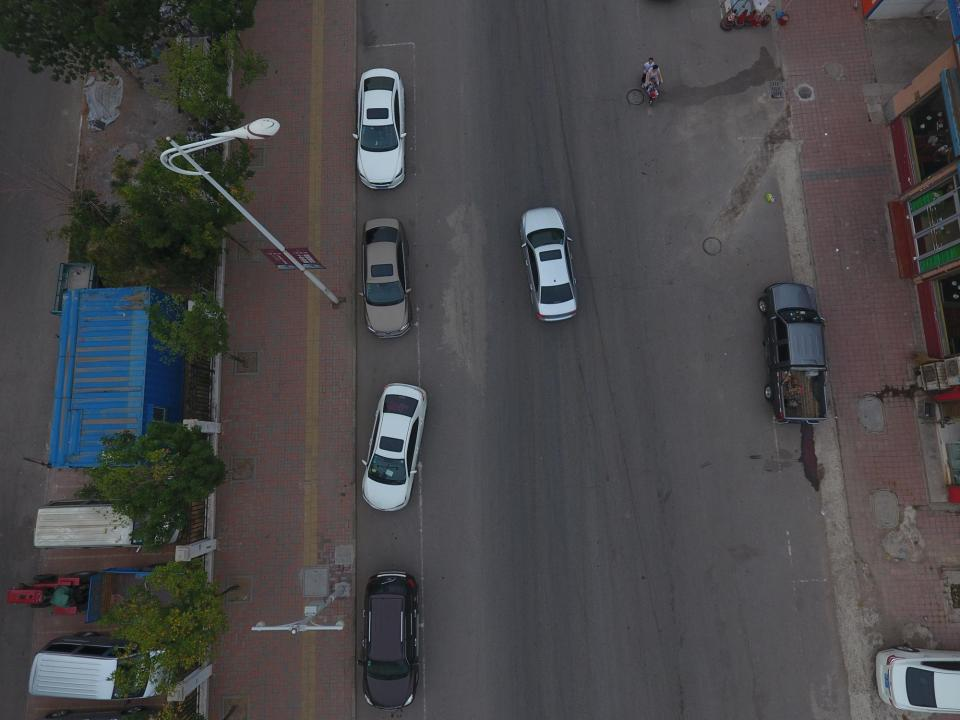car: (361, 382, 427, 512), (362, 570, 418, 710), (520, 207, 577, 322), (356, 68, 406, 190), (361, 219, 411, 340), (874, 647, 960, 713)
truck: (757, 282, 828, 424)
van: (28, 638, 176, 700), (32, 503, 184, 548)
